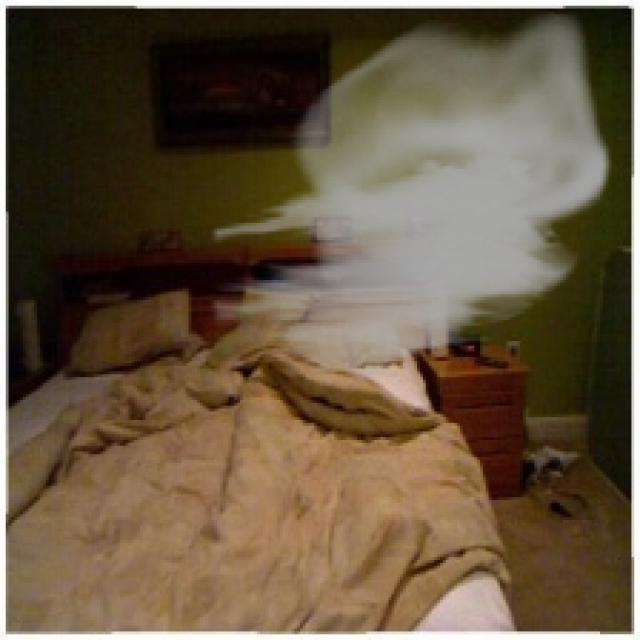Smoke: (212, 11, 612, 383)
